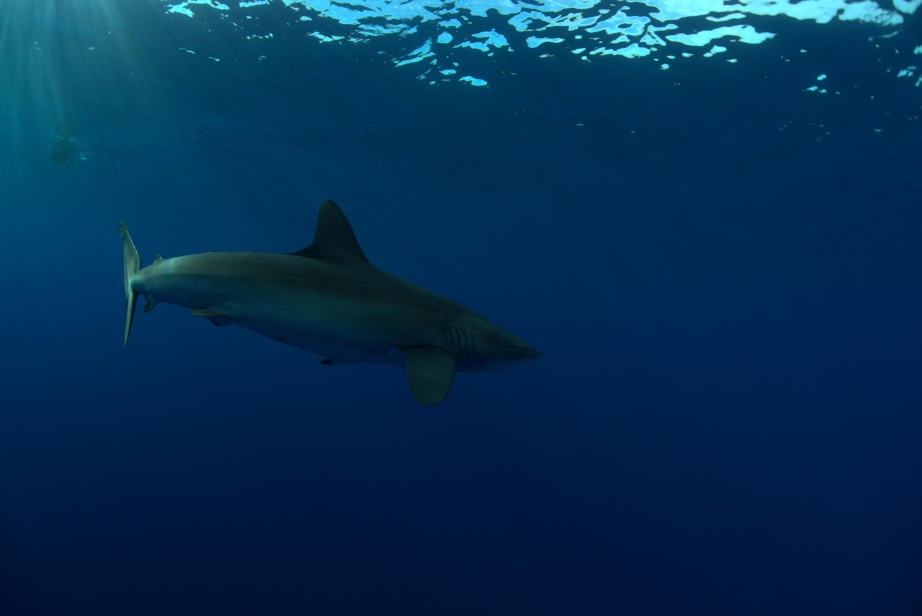Sedoso: (97, 198, 556, 420)
